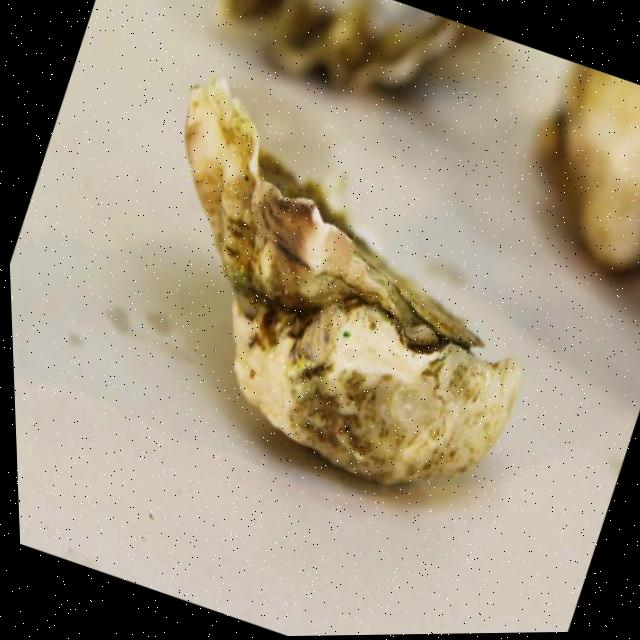Oyster-Closed: (185, 78, 521, 484), (226, 0, 485, 90)
Oyster-Indeterminate: (540, 64, 640, 272)
